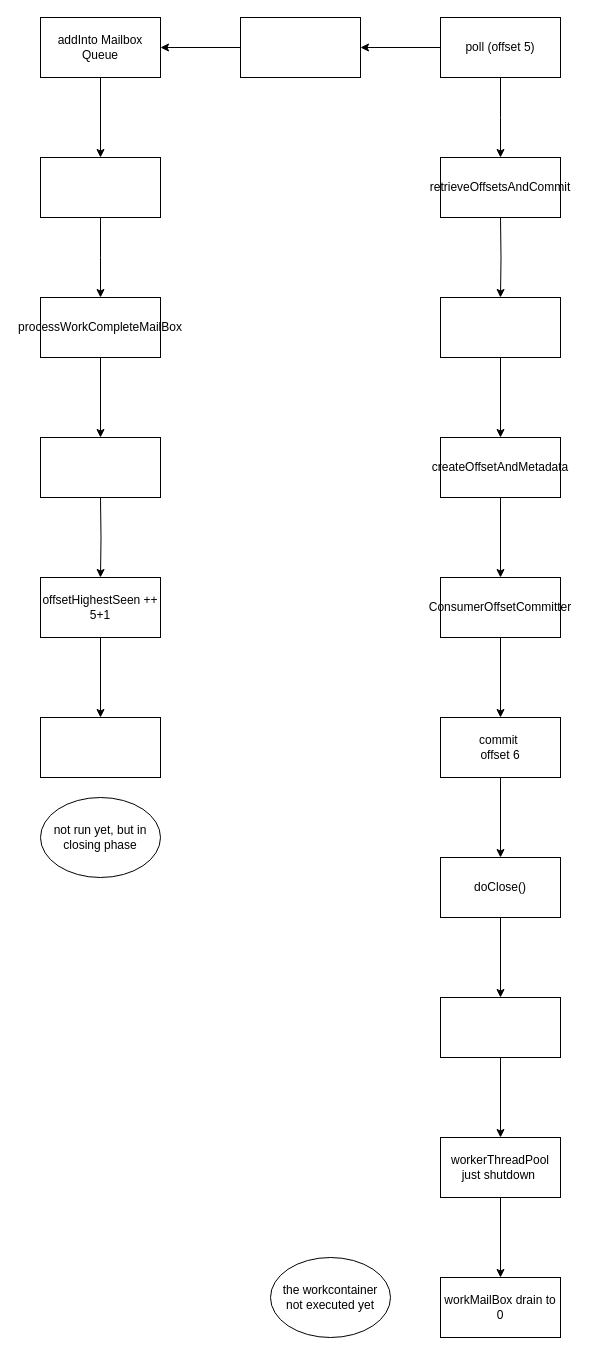
Some shapes in this 589 by 1355 pixel diagram are drawn without their labels. The centre of each missing label's shape, as x and y in pixels:
"collect offsets" belongs at point (500, 327).
"controlLoop" belongs at point (100, 187).
"innerDoClose" belongs at point (500, 1027).
"maybeRaiseHighestSeenOffset" belongs at point (100, 467).
"registerWork" belongs at point (300, 47).
"to be added into mailbox queue" belongs at point (100, 747).
